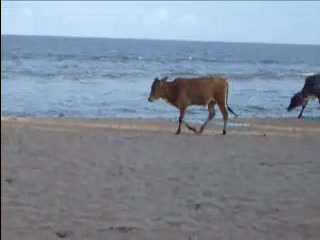cow: (150, 78, 238, 138)
